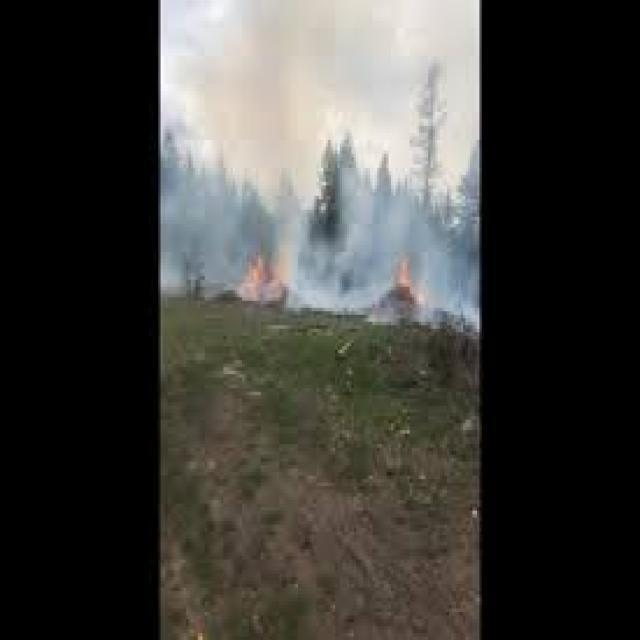Fire: (232, 247, 298, 314), (388, 238, 430, 295)
Smoke: (182, 0, 452, 299)
